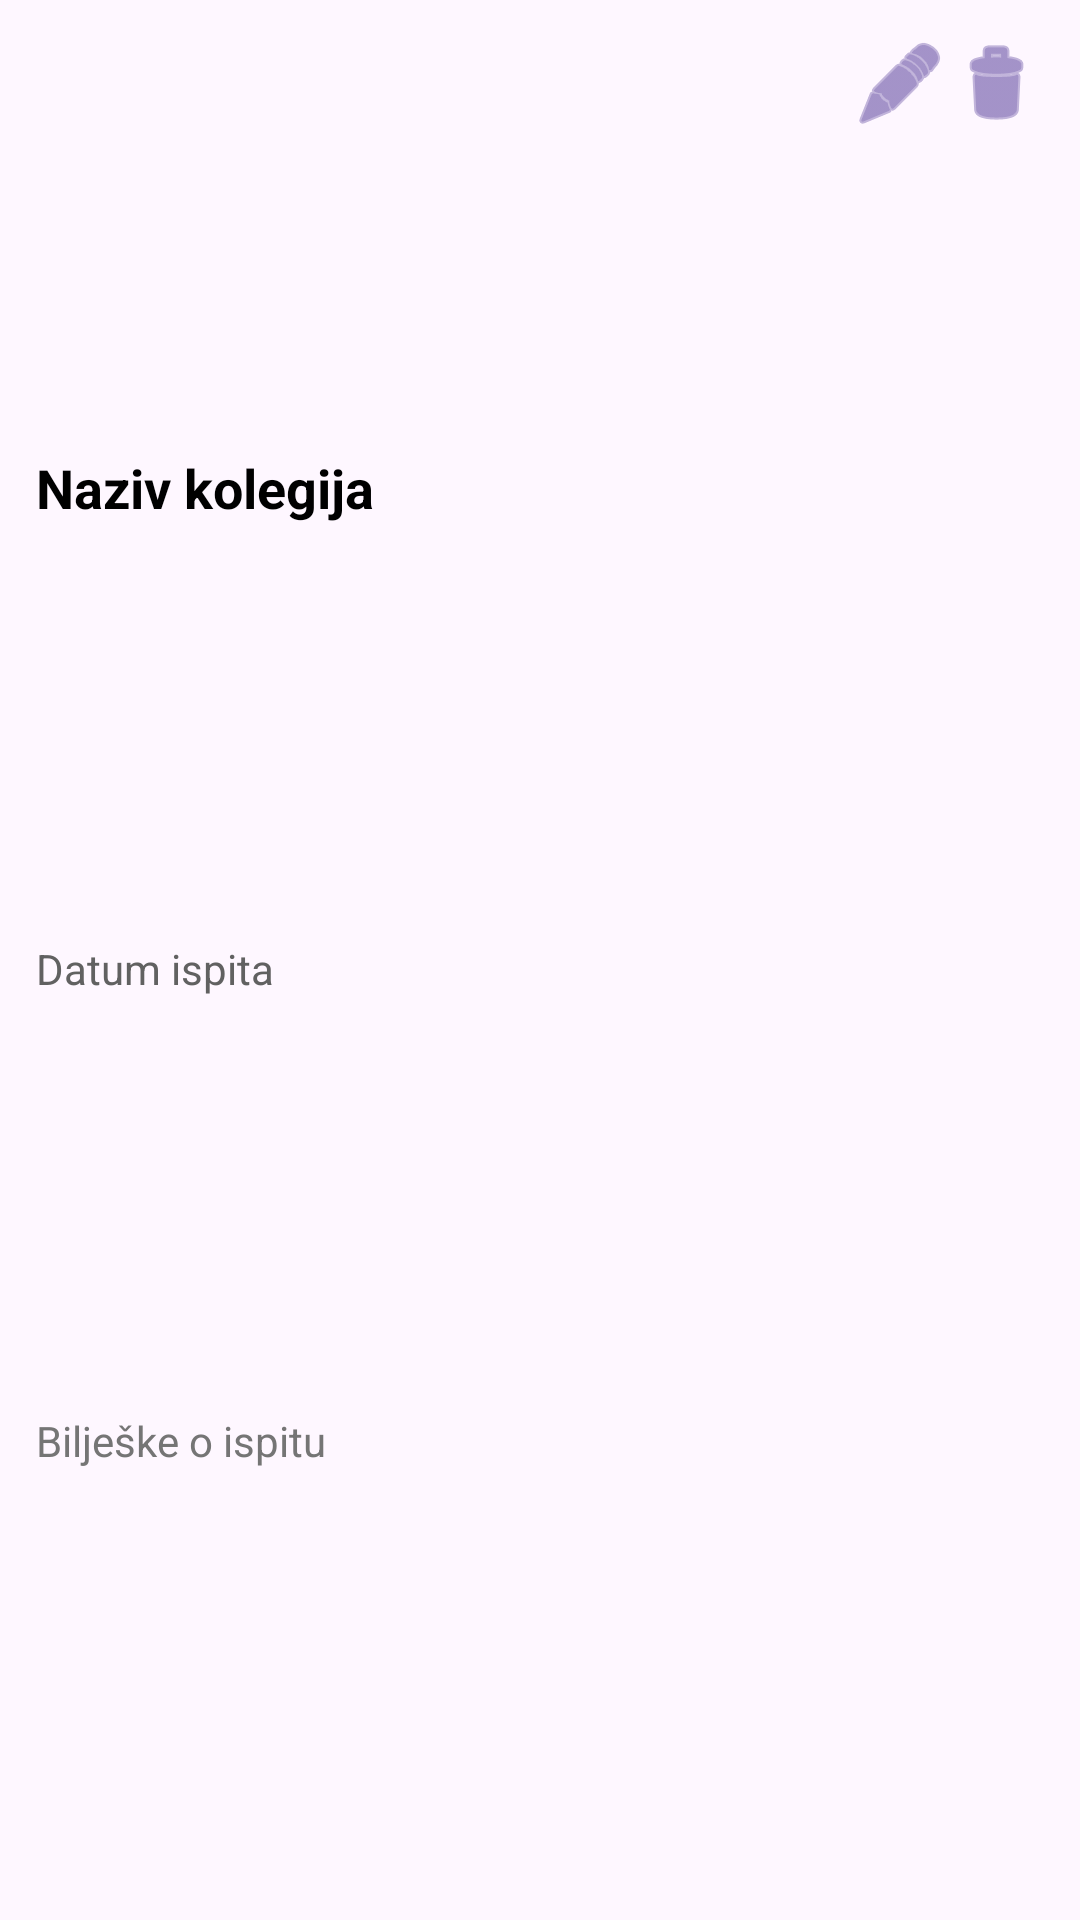

Screen size 1080*1920. Icon name, then its box in pixels as (x1,y1,x2,y2):
Obriši ispit: (970,45,1023,120)
Uredi ispit: (859,43,940,124)
